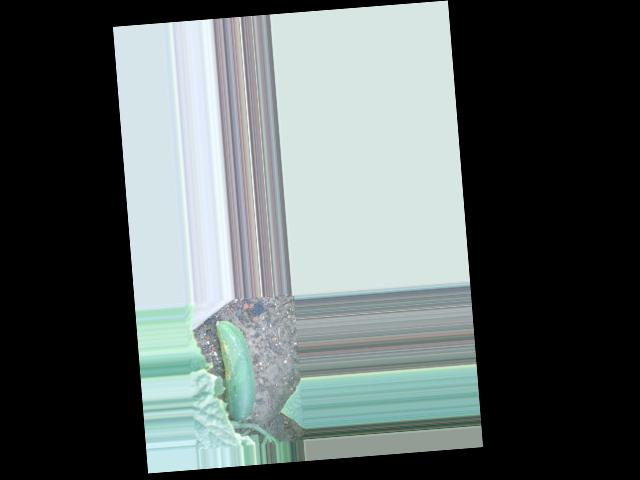cucumber: (215, 318, 257, 421)
